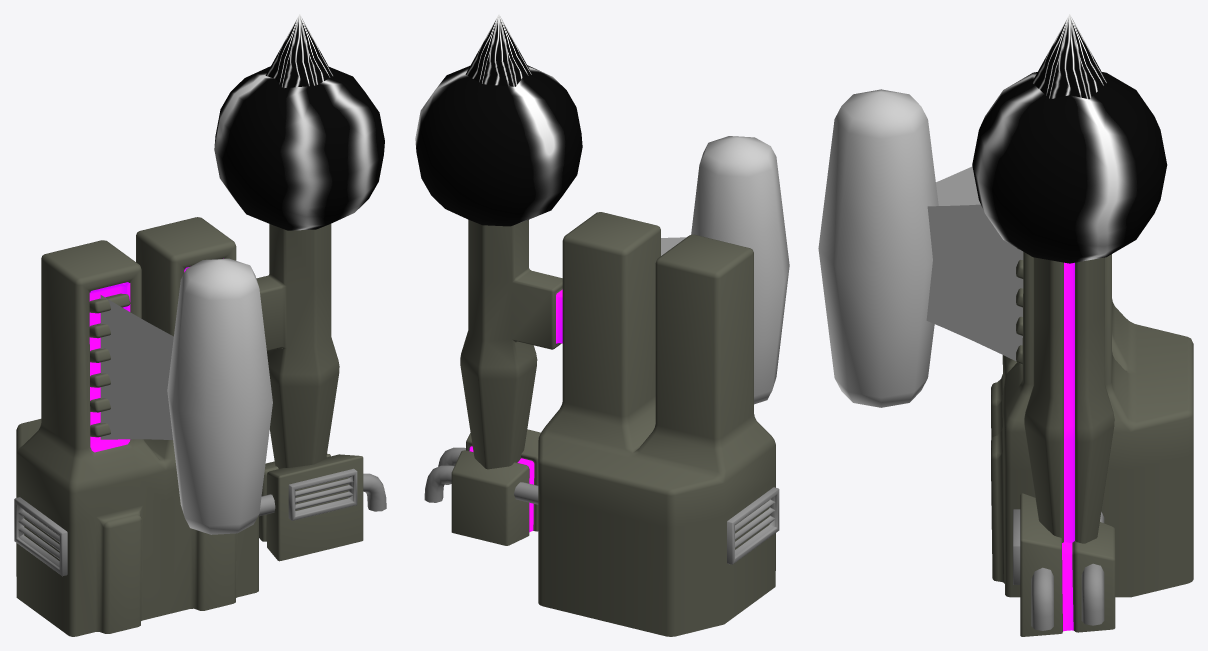
File: Station.fbx
The picture shows the model from 3 angles, left to right: view 1: azimuth 30°, elevation 25°; view 2: azimuth 150°, elevation 25°; view 3: azimuth 270°, elevation 25°; orthographic projection. The views are drawn at different scales.
Parts seen in each view (by area): view 1: LiftBase, BuildFX2, StationBase, EnergySkin, BuildFX, EnergyFX, ChargeAero, LiftAero, LiftBase.001, Alim1; view 2: LiftBase, StationBase, EnergySkin, BuildFX2, EnergyFX, LiftAero, Alim1; view 3: BuildFX2, LiftBase, EnergySkin, StationBase, BuildFX, EnergyFX, Alim1, ChargeAero.
Part boxes in pixels (x1=…): LiftBase: x1=16, y1=217, x2=258, y2=636; BuildFX2: x1=167, y1=258, x2=272, y2=534; StationBase: x1=256, y1=224, x2=363, y2=561; EnergySkin: x1=214, y1=66, x2=384, y2=230; BuildFX: x1=100, y1=295, x2=173, y2=439; EnergyFX: x1=265, y1=14, x2=333, y2=88; ChargeAero: x1=288, y1=468, x2=357, y2=520; LiftAero: x1=14, y1=497, x2=67, y2=576; LiftBase.001: x1=89, y1=293, x2=130, y2=437; Alim1: x1=363, y1=473, x2=386, y2=511; LiftBase: x1=538, y1=212, x2=775, y2=636; StationBase: x1=451, y1=219, x2=562, y2=545; EnergySkin: x1=415, y1=65, x2=582, y2=226; BuildFX2: x1=691, y1=136, x2=789, y2=404; EnergyFX: x1=465, y1=14, x2=532, y2=86; LiftAero: x1=727, y1=487, x2=779, y2=564; Alim1: x1=424, y1=447, x2=465, y2=502; BuildFX2: x1=818, y1=89, x2=938, y2=407; LiftBase: x1=991, y1=252, x2=1193, y2=597; EnergySkin: x1=972, y1=72, x2=1167, y2=263; StationBase: x1=1020, y1=257, x2=1115, y2=636; BuildFX: x1=926, y1=166, x2=1023, y2=360; EnergyFX: x1=1032, y1=14, x2=1107, y2=99; Alim1: x1=1031, y1=563, x2=1104, y2=630; ChargeAero: x1=1013, y1=509, x2=1020, y2=584.
Bounding box in the file's own units: 710 × 1091 × 597.
